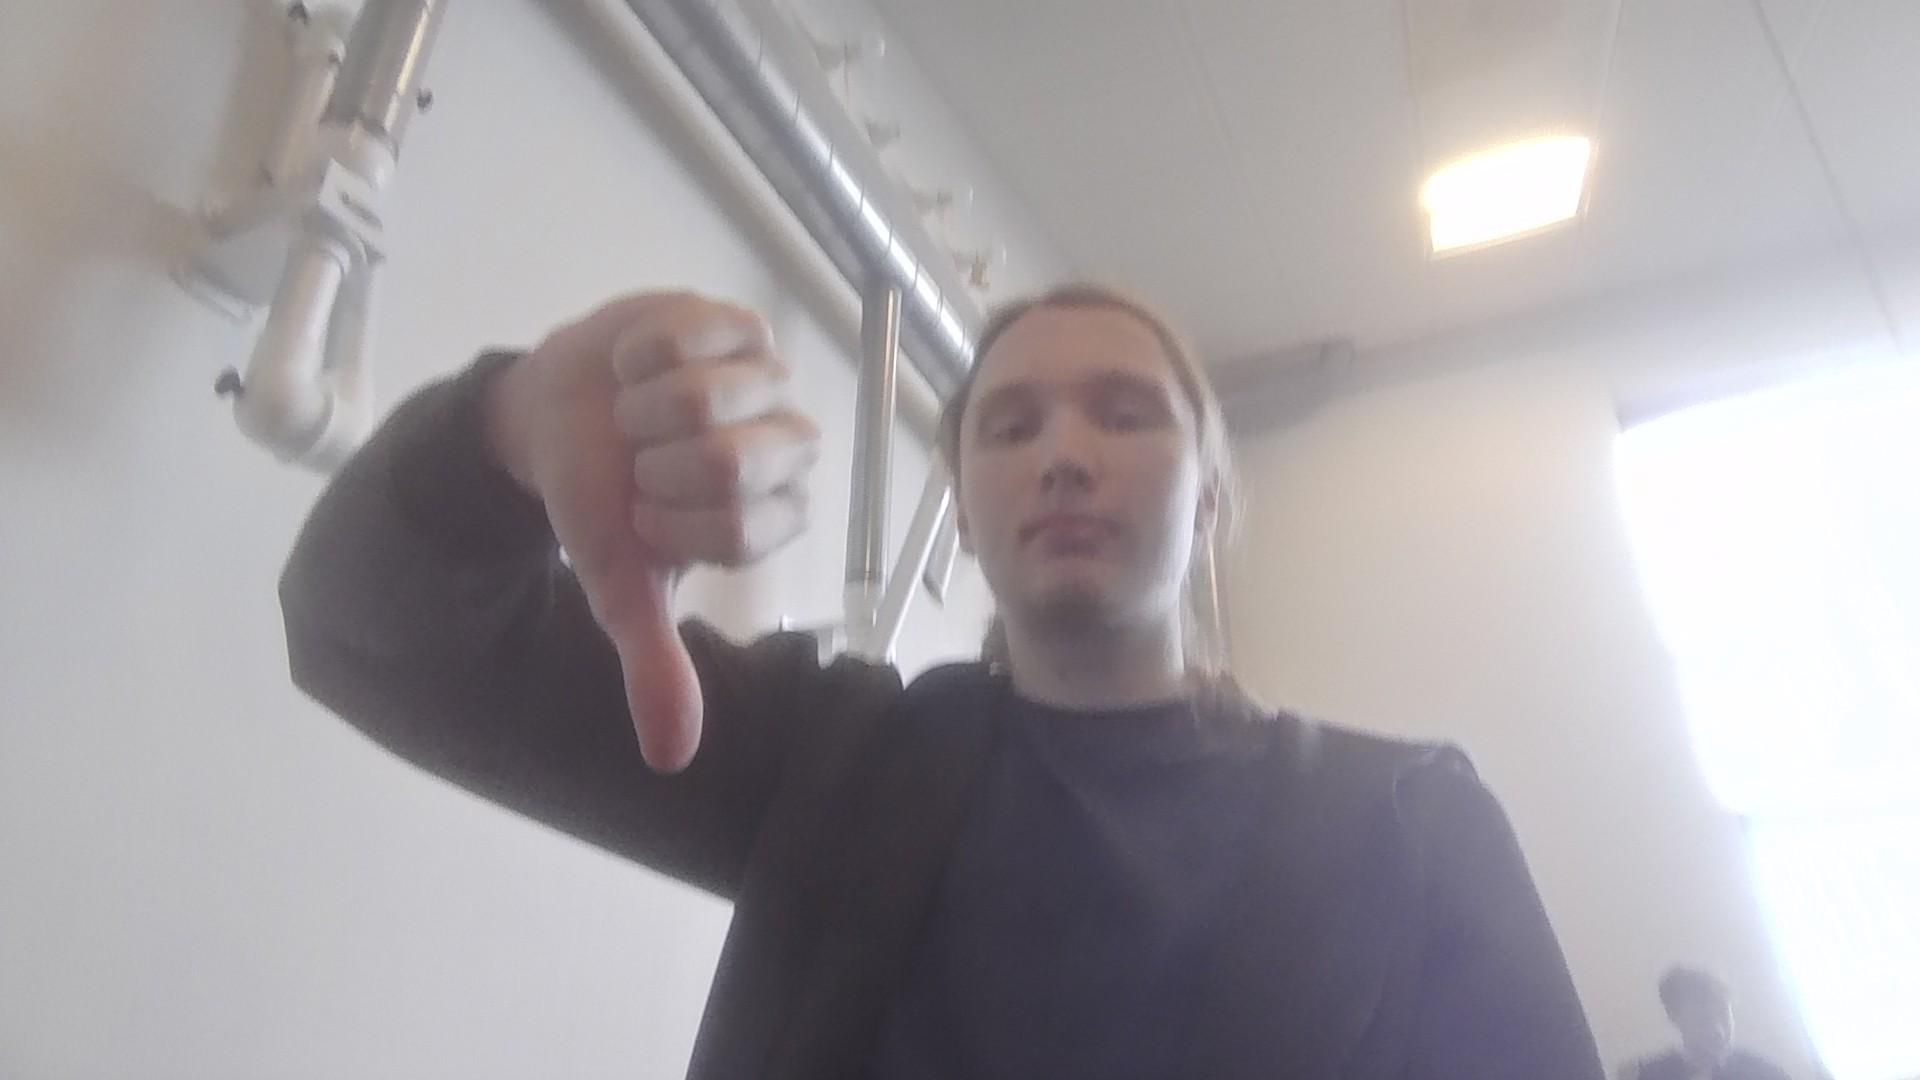thumbs down: (531, 291, 829, 775)
